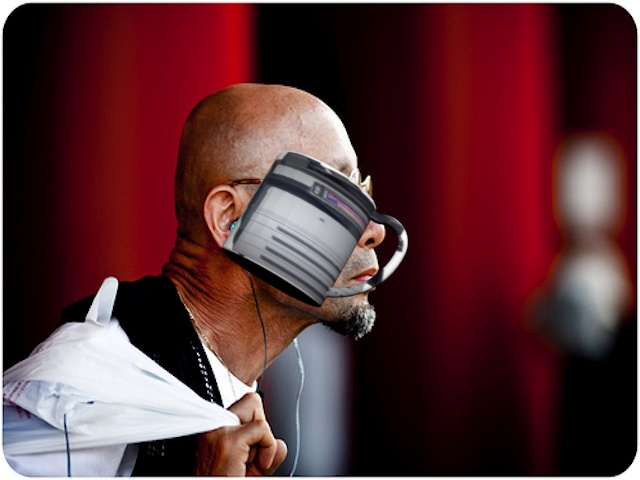mug: (217, 145, 416, 312)
